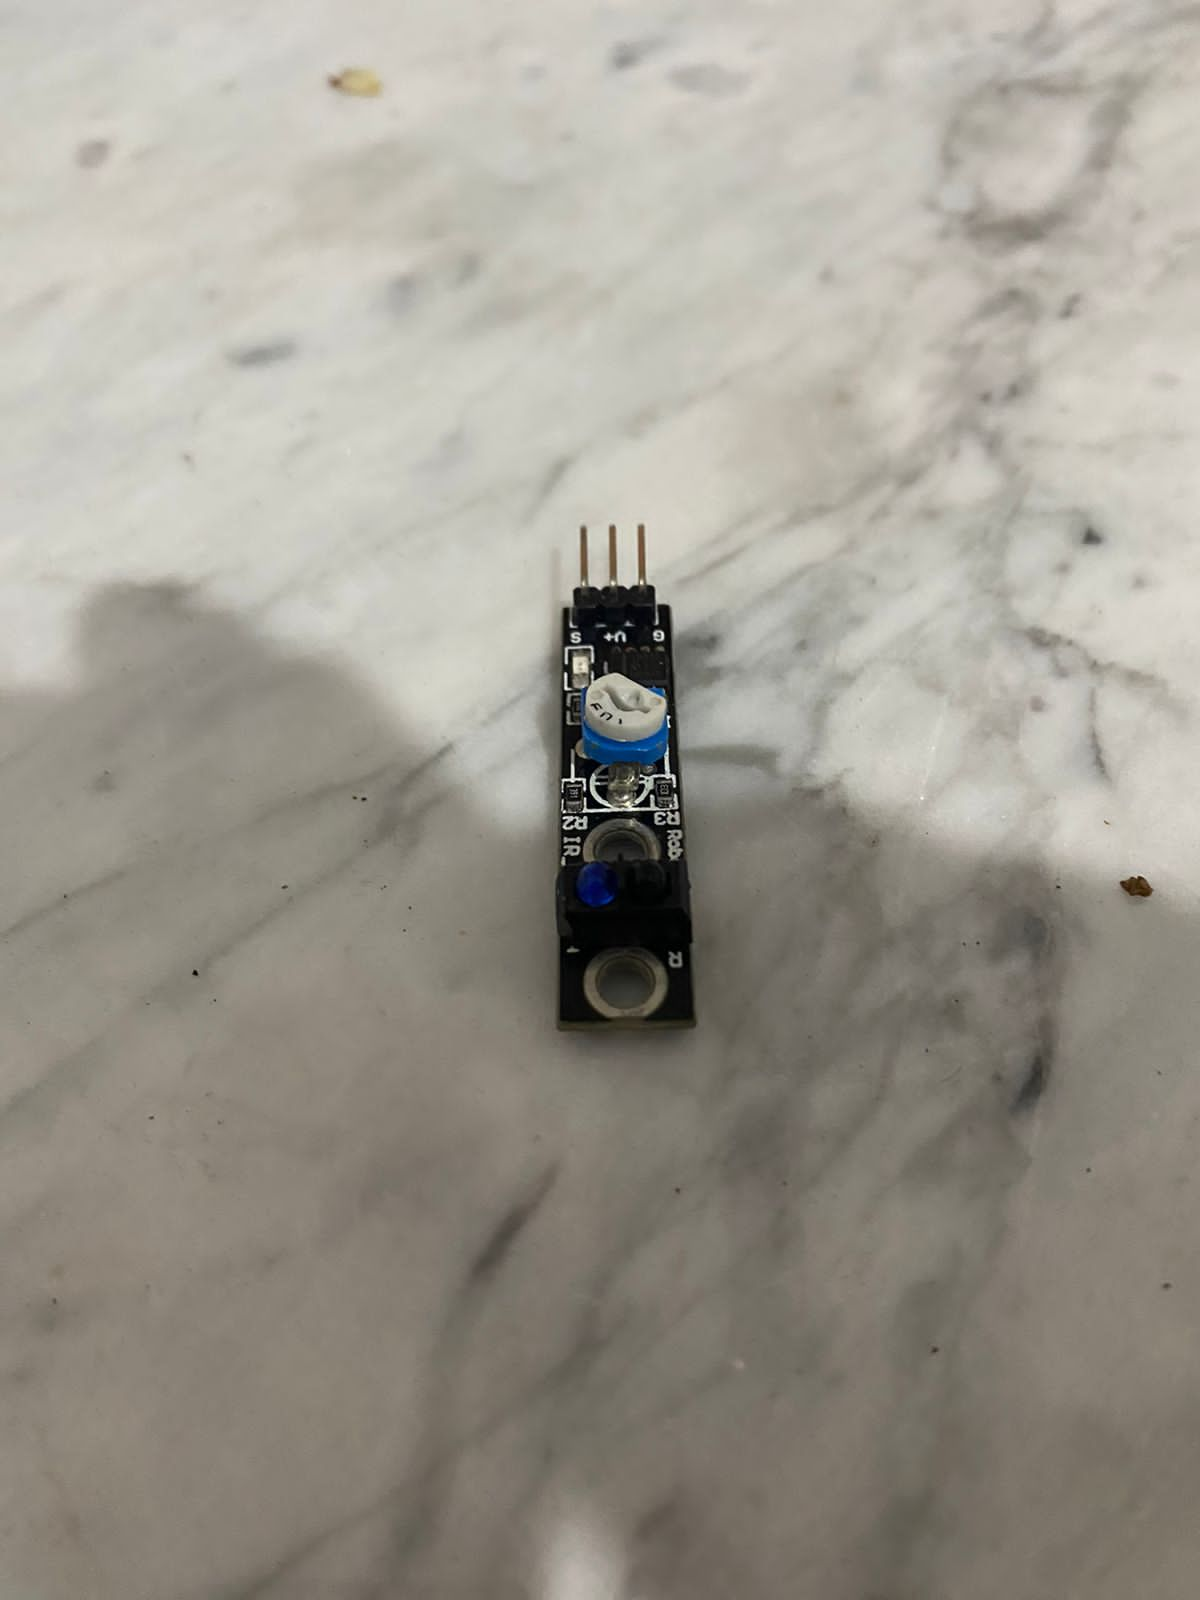ir-sensor: (527, 517, 724, 1041)
